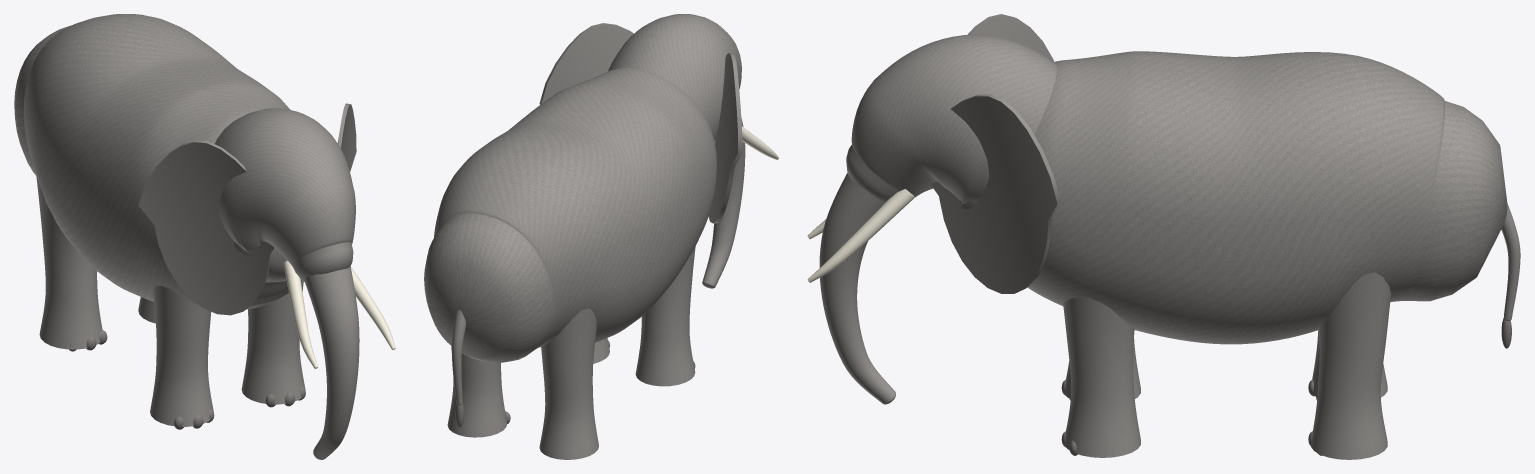
File: other-african-elephant.glb
The picture shows the model from 3 angles, left to right: view 1: azimuth 30°, elevation 25°; view 2: azimuth 150°, elevation 25°; view 3: azimuth 270°, elevation 25°; orthographic projection. The views are drawn at different scales.
Visible parts, largest first — view 1: african-elephant-bull; view 2: african-elephant-bull; view 3: african-elephant-bull.
Boxes of the visible parts, x1=… form: african-elephant-bull: x1=14, y1=14, x2=395, y2=459; african-elephant-bull: x1=424, y1=14, x2=778, y2=459; african-elephant-bull: x1=807, y1=14, x2=1520, y2=459.
Bounding box in the file's own units: 2.48 × 3.58 × 6.07.
Materials: 4 (2 with a texture image).
